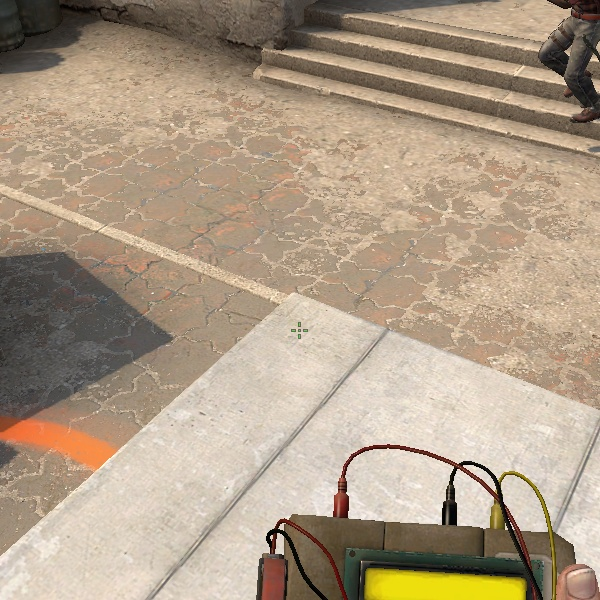t_body: (529, 0, 599, 127)
